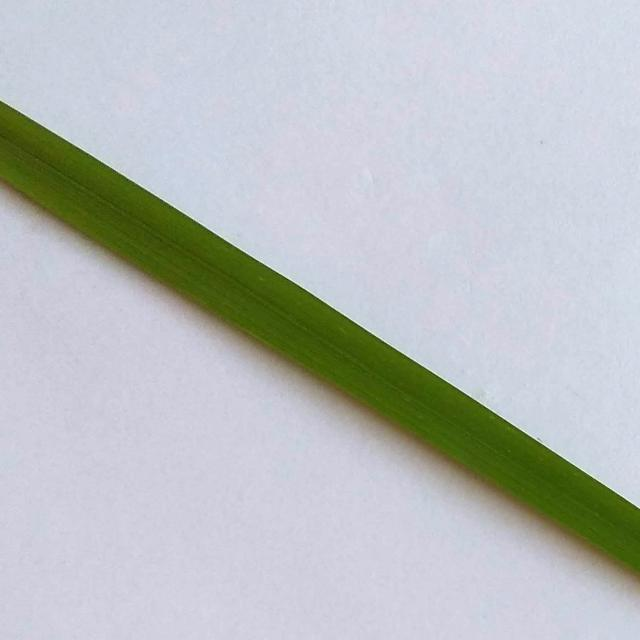Rice_Healthy: (0, 101, 640, 575)
